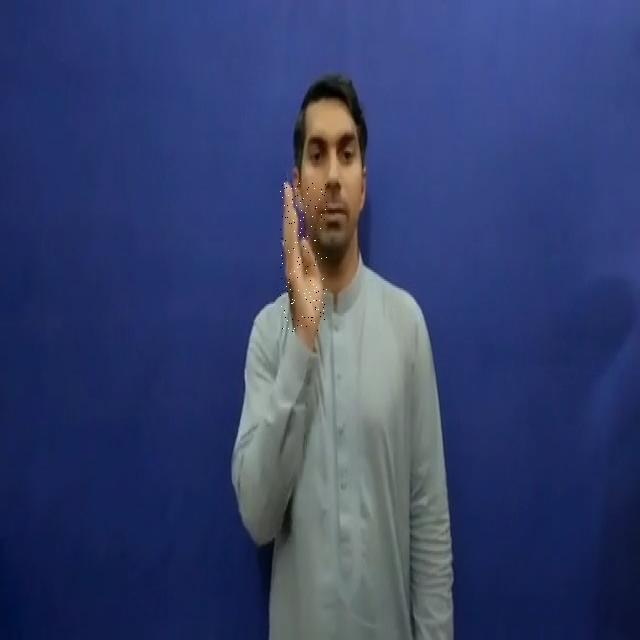napkin: (280, 182, 327, 332)
